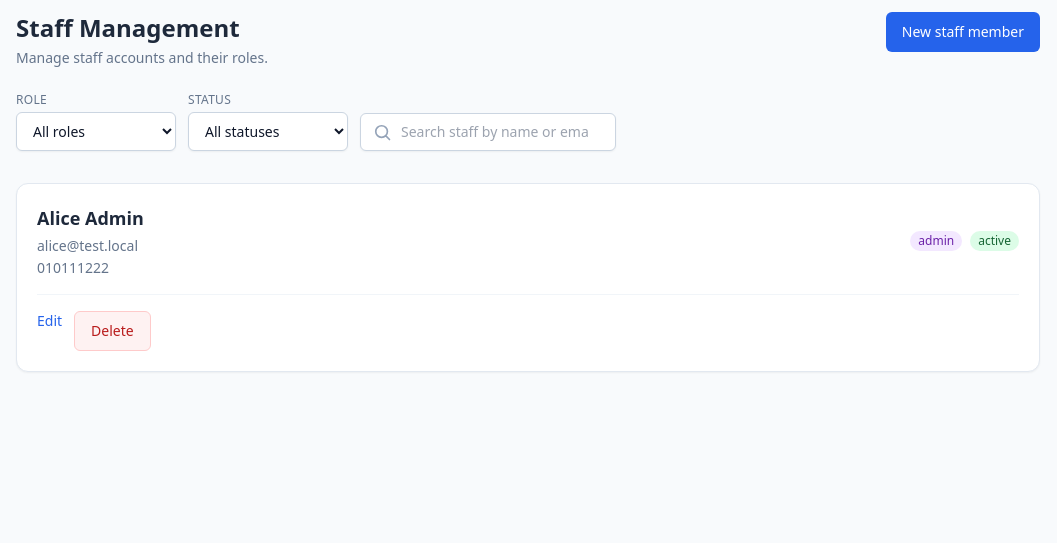
it: Staff management list page › shows an error when a delete fails
The width and height of the screenshot is (1057, 543).
Expected: the heading "Alice Admin" is shown, [37, 204, 144, 232]
Click the button "Delete" at (112, 331), box [74, 311, 151, 351]
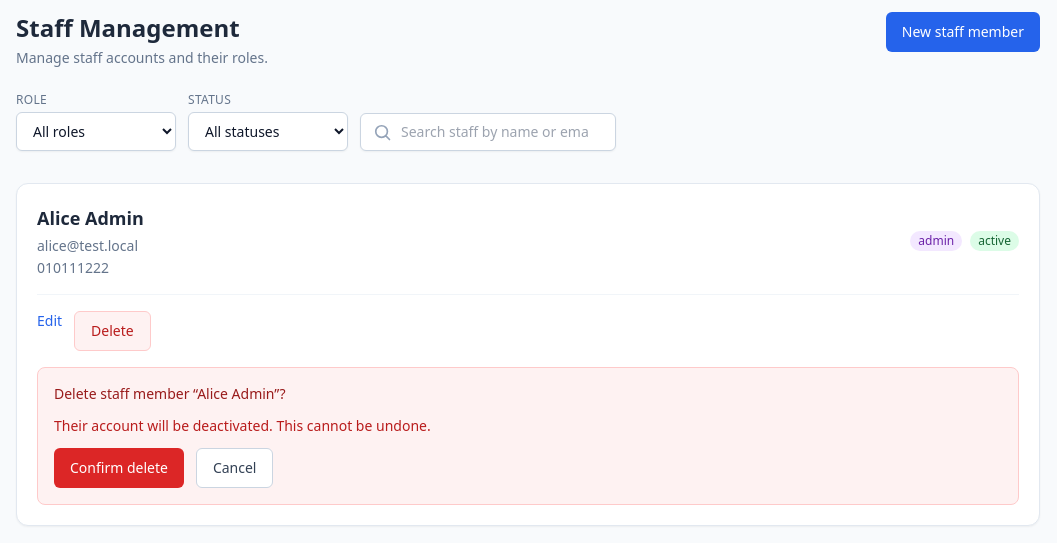
Click the button "Confirm delete" at (119, 468), box [54, 448, 184, 488]
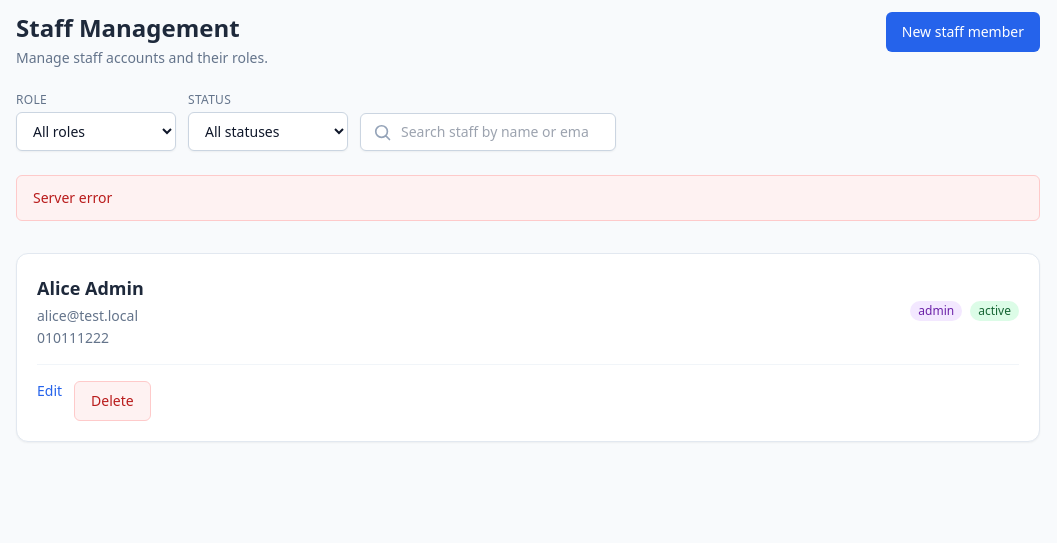
Now the text "Server error" is shown, box [16, 175, 1040, 221]
